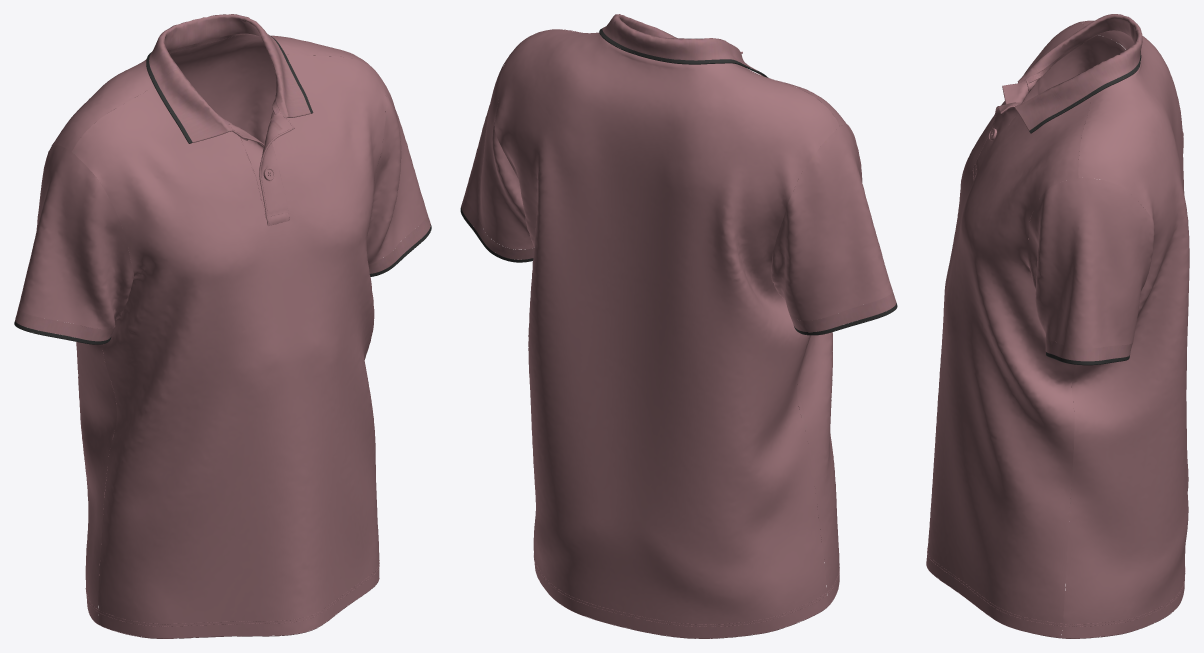
Rendered from CORE TIPPED POLO PINK_gltf_thick_draco.gltf.
3 views of the same model, side by side, from view 1: azimuth 30°, elevation 25°; view 2: azimuth 150°, elevation 25°; view 3: azimuth 270°, elevation 25° (orthographic). The views are drawn at different scales.
Visible parts, largest first — view 1: Cloth; view 2: Cloth; view 3: Cloth.
Boxes of the visible parts, x1,y1,x2,y2 form: Cloth: (14,14,431,638); Cloth: (460,14,897,638); Cloth: (926,14,1189,638).
Bounding box in the file's own units: 57.5 × 73.71 × 32.11.
10 materials, 10 textured.
